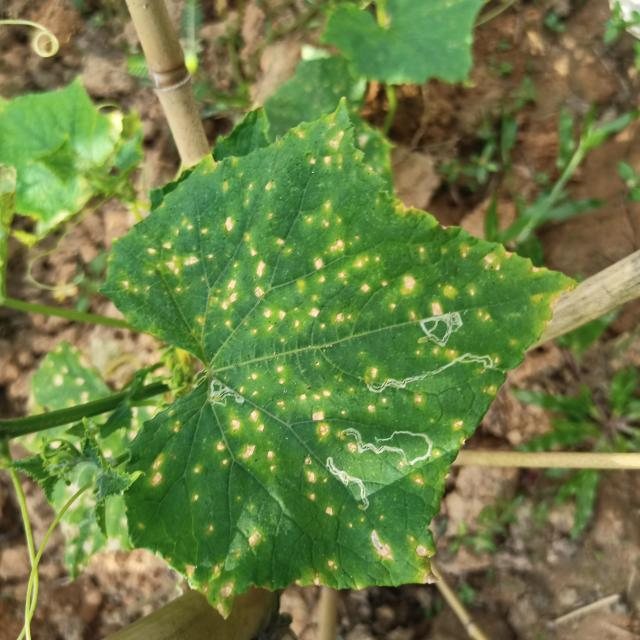disease_cucumber: (131, 130, 544, 352), (172, 408, 283, 506), (176, 524, 270, 614), (240, 362, 333, 450), (350, 514, 434, 565), (340, 392, 426, 425), (296, 453, 334, 521), (301, 554, 344, 590), (148, 453, 166, 490)
